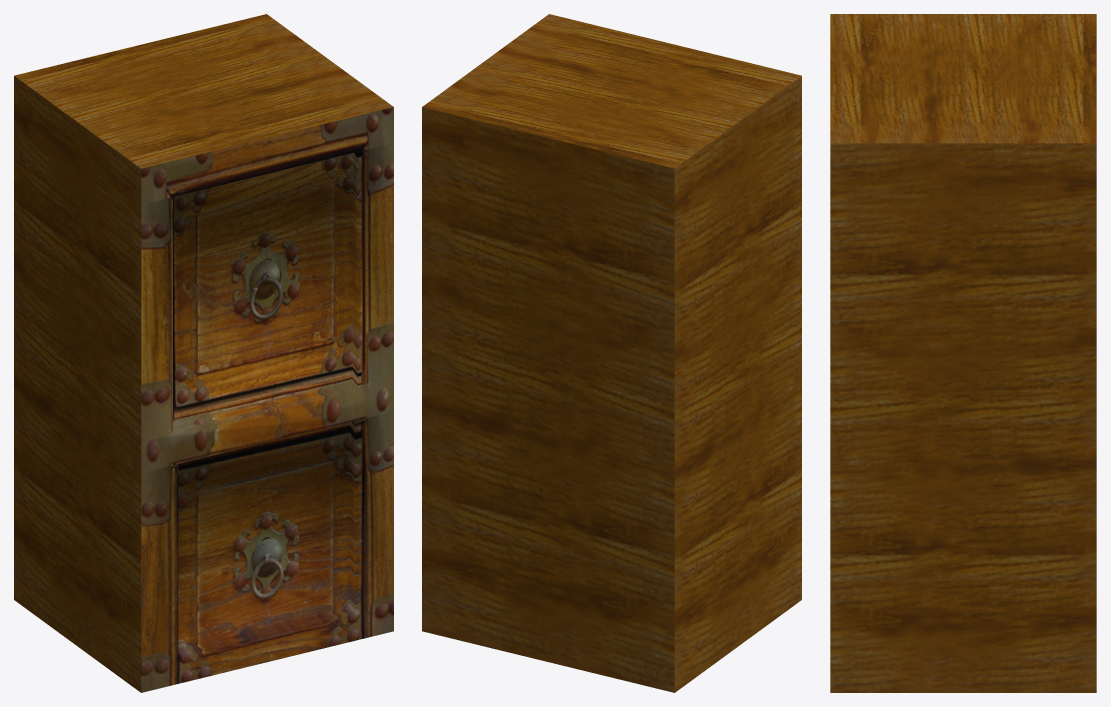
File: OrnateFurniture.dae
The picture shows the model from 3 angles, left to right: view 1: azimuth 30°, elevation 25°; view 2: azimuth 150°, elevation 25°; view 3: azimuth 270°, elevation 25°; orthographic projection. The views are drawn at different scales.
Visible parts, largest first — view 1: meshU3D; view 2: meshU3D; view 3: meshU3D.
Boxes of the visible parts, x1,y1,x2,y2 form: meshU3D: [14, 14, 393, 692]; meshU3D: [422, 14, 801, 692]; meshU3D: [830, 14, 1096, 692].
Size of the model in its own units: 14.29 by 28.32 by 12.45.
